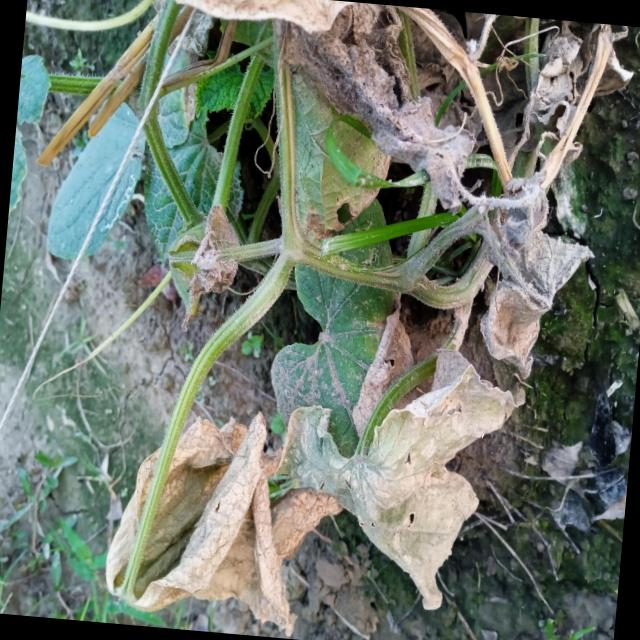cucumber_bacterial: (334, 367, 510, 618), (132, 406, 308, 638), (466, 178, 590, 374), (365, 96, 478, 206), (505, 22, 593, 156)
